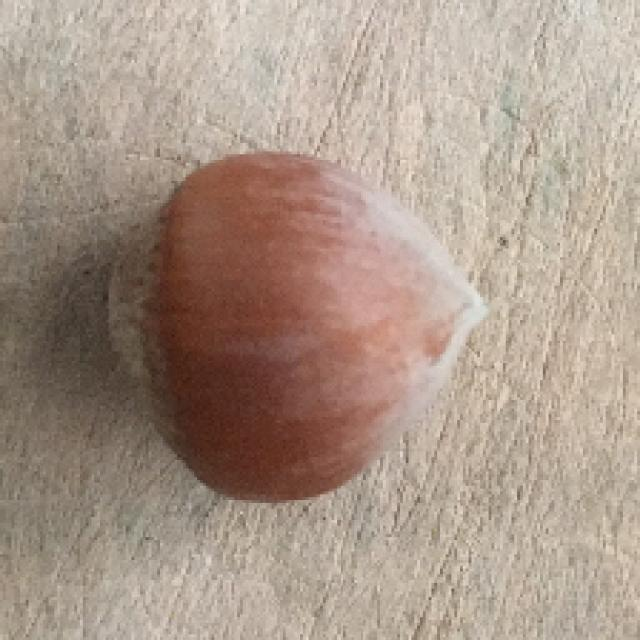qualityHazelnut: (107, 150, 492, 504)
